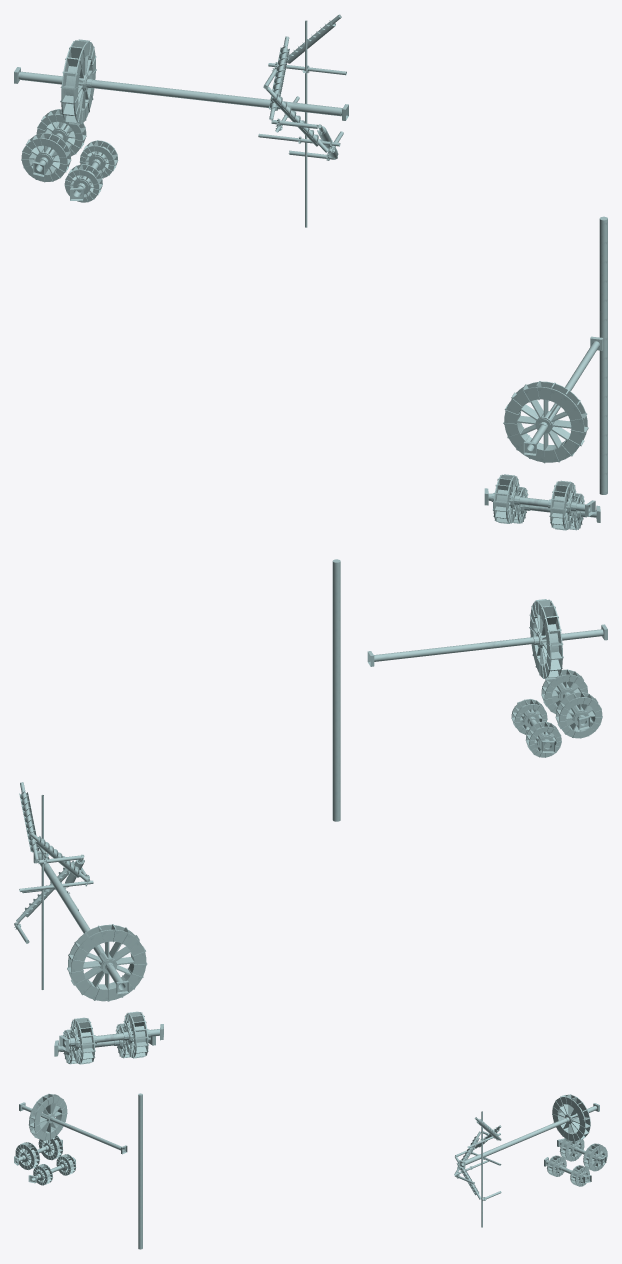
The model's file is field_winter_gear_grp.fbx.
3 views of the same model, one above another, from view 1: azimuth 30°, elevation 25°; view 2: azimuth 150°, elevation 25°; view 3: azimuth 270°, elevation 25° (orthographic). The views are drawn at different scales.
Parts seen in each view (by area): view 1: field_winter_gear_grp1, field_winter_gear_grp2, field_winter_gear_recline; view 2: field_winter_gear_grp1, field_winter_gear_grp2, field_winter_gear_recline; view 3: field_winter_gear_grp1, field_winter_gear_grp2, field_winter_gear_recline.
Part boxes in pixels (bbox=[...]): field_winter_gear_grp1: bbox=[484, 216, 607, 530]; field_winter_gear_grp2: bbox=[14, 23, 348, 202]; field_winter_gear_recline: bbox=[258, 14, 346, 227]; field_winter_gear_grp1: bbox=[332, 559, 607, 821]; field_winter_gear_grp2: bbox=[19, 792, 163, 1064]; field_winter_gear_recline: bbox=[14, 782, 93, 989]; field_winter_gear_grp1: bbox=[14, 1093, 142, 1249]; field_winter_gear_grp2: bbox=[456, 1094, 607, 1195]; field_winter_gear_recline: bbox=[454, 1111, 501, 1227].
Bounding box in the file's own units: 1741 × 1956 × 6836.
Materials: 1 (1 with a texture image).
